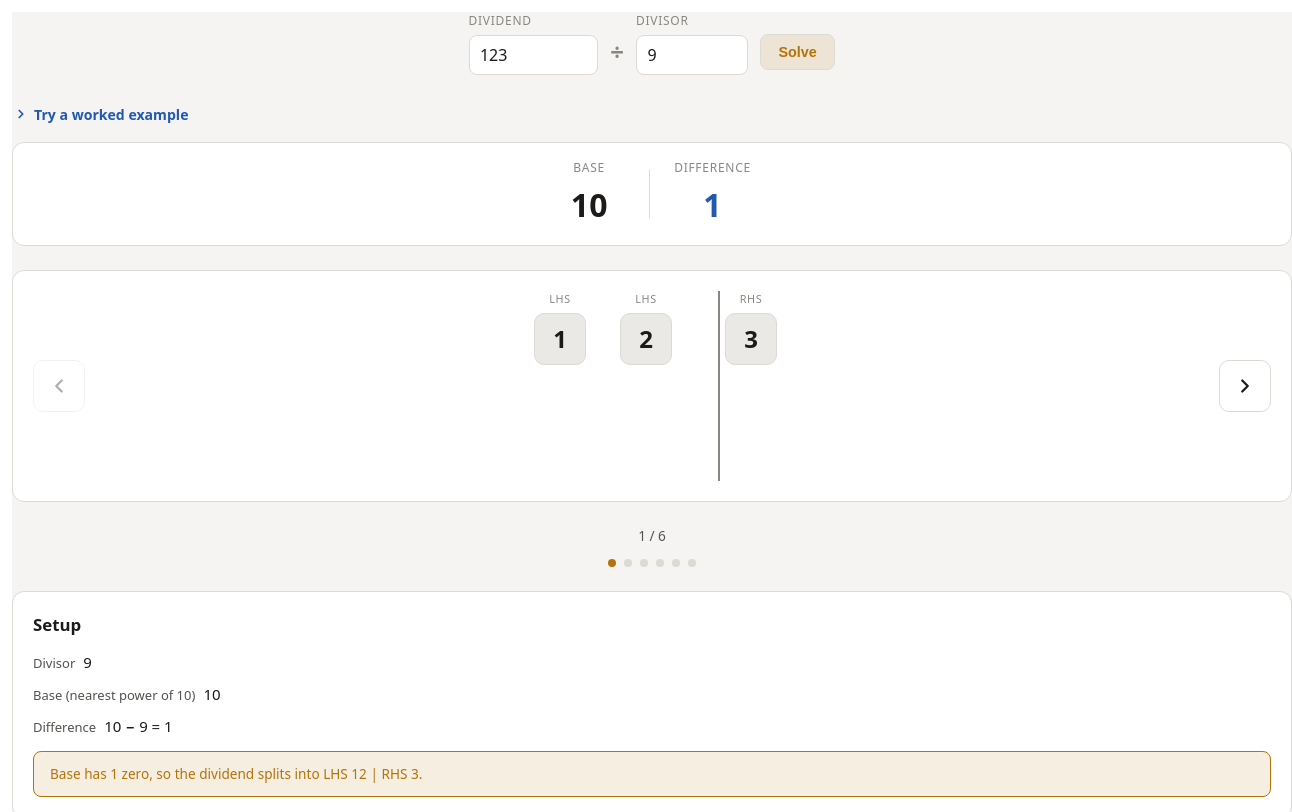
Test: BaseMethodPage › steps through to the verified remainder
Click the button named "Next step" at (1245, 386), box 1219,360 -> 1271,412
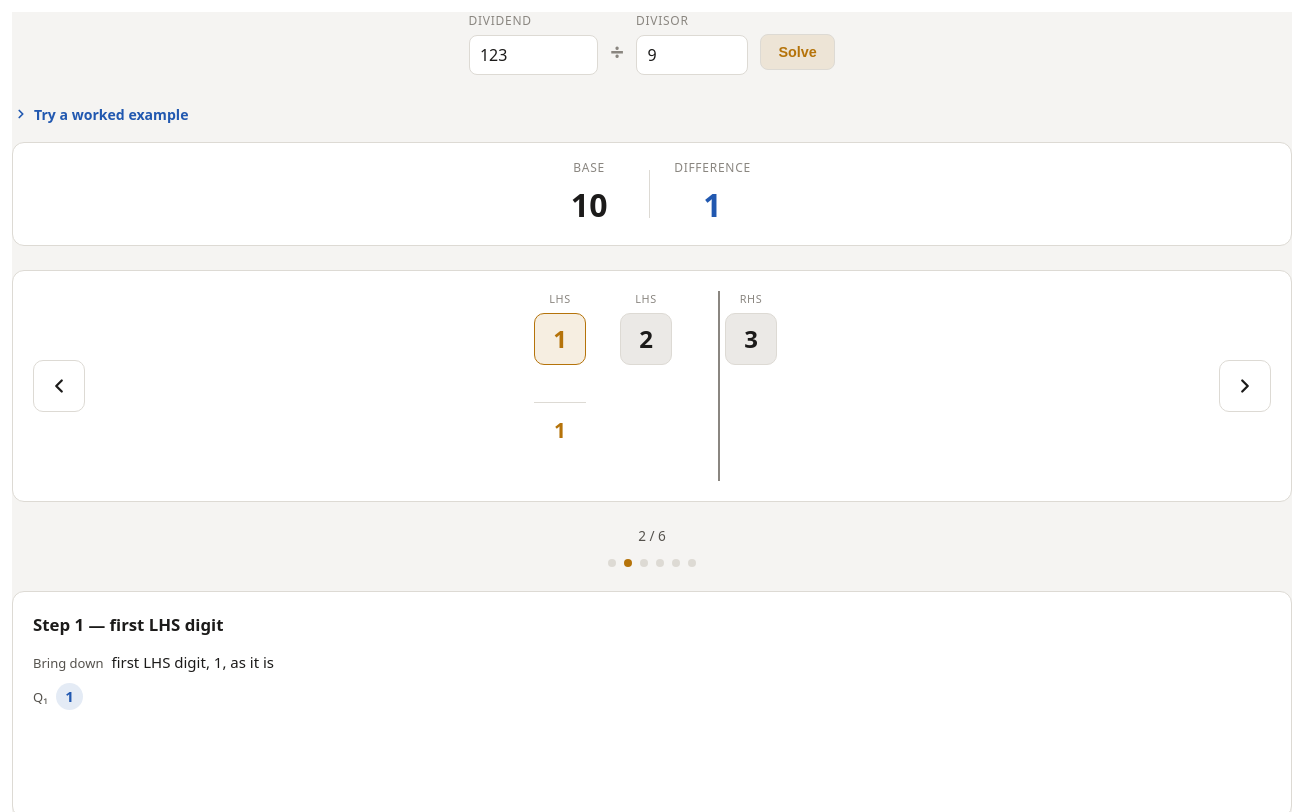
Click the button named "Next step" at (1245, 386), box 1219,360 -> 1271,412
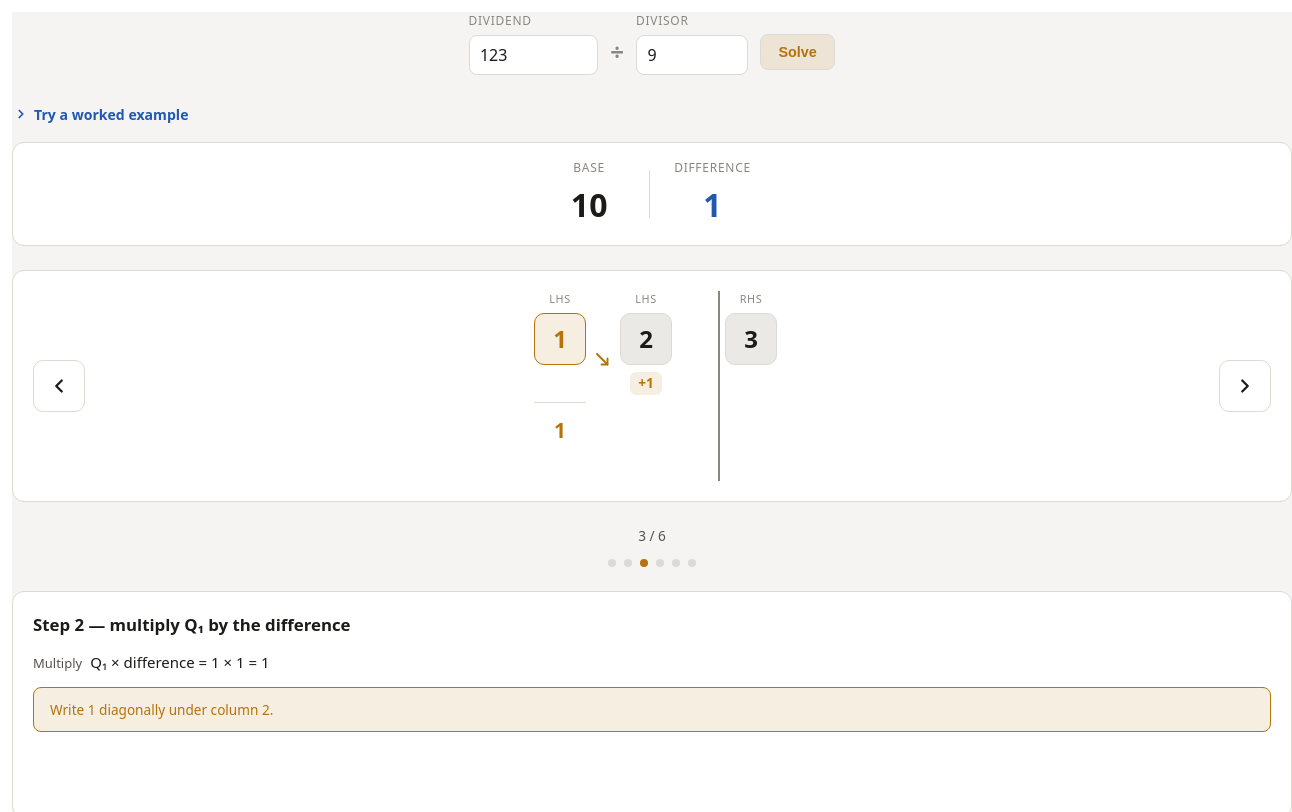
Click the button named "Next step" at (1245, 386), box 1219,360 -> 1271,412
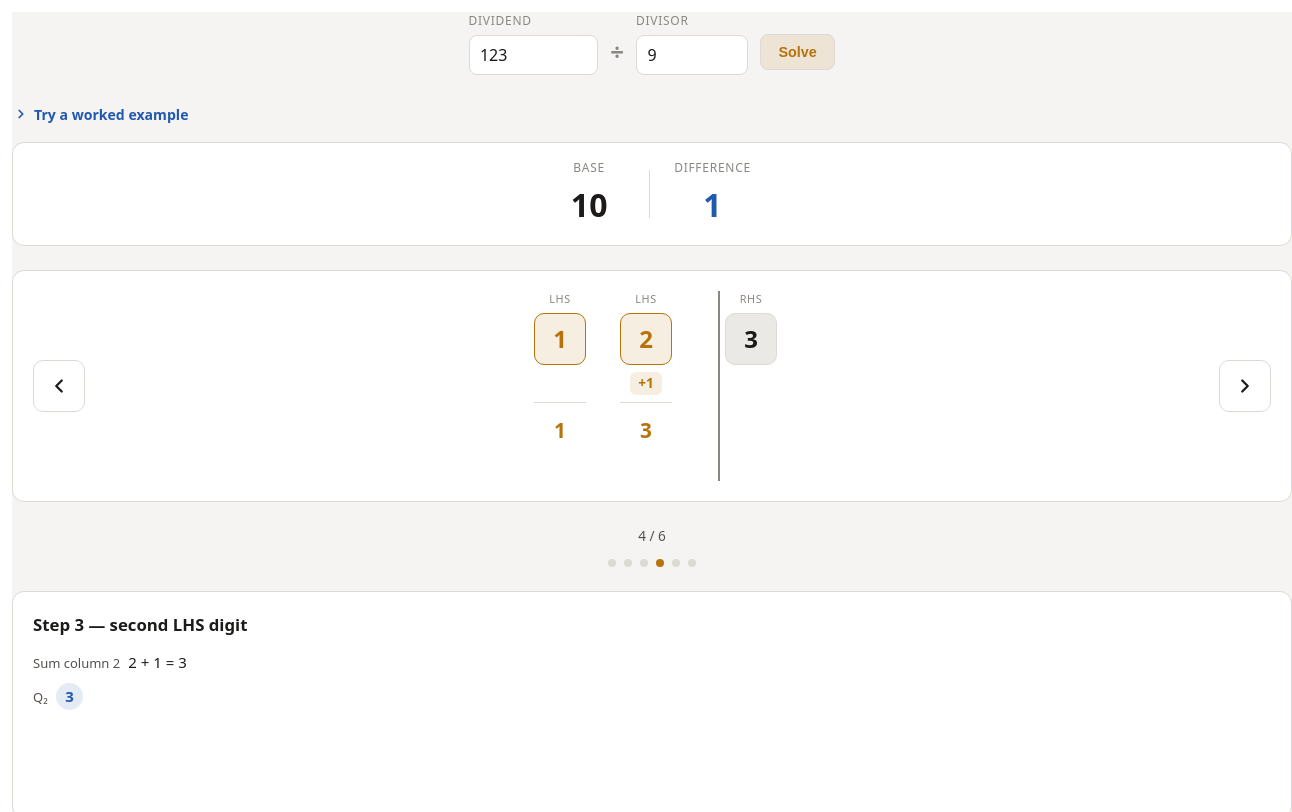
Click the button named "Next step" at (1245, 386), box 1219,360 -> 1271,412
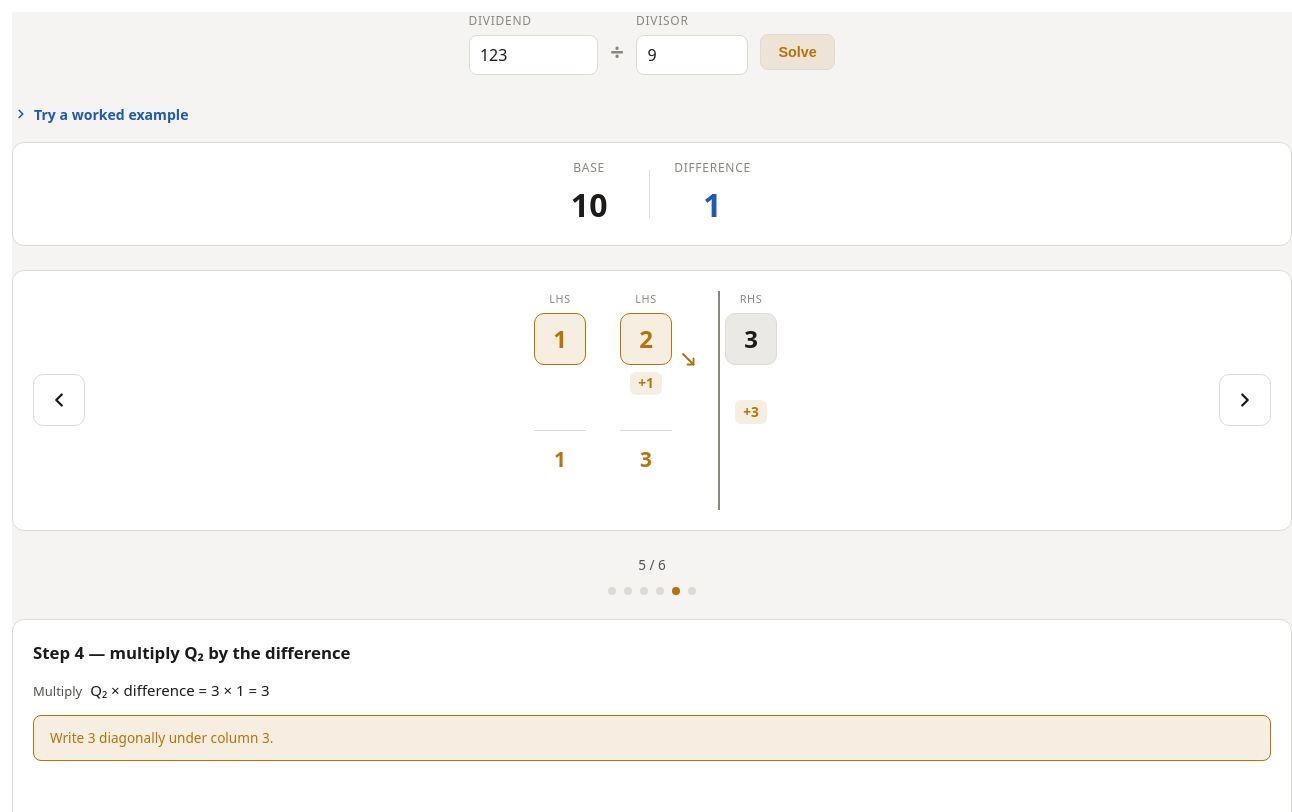
Click the button named "Next step" at (1245, 400), box 1219,374 -> 1271,426
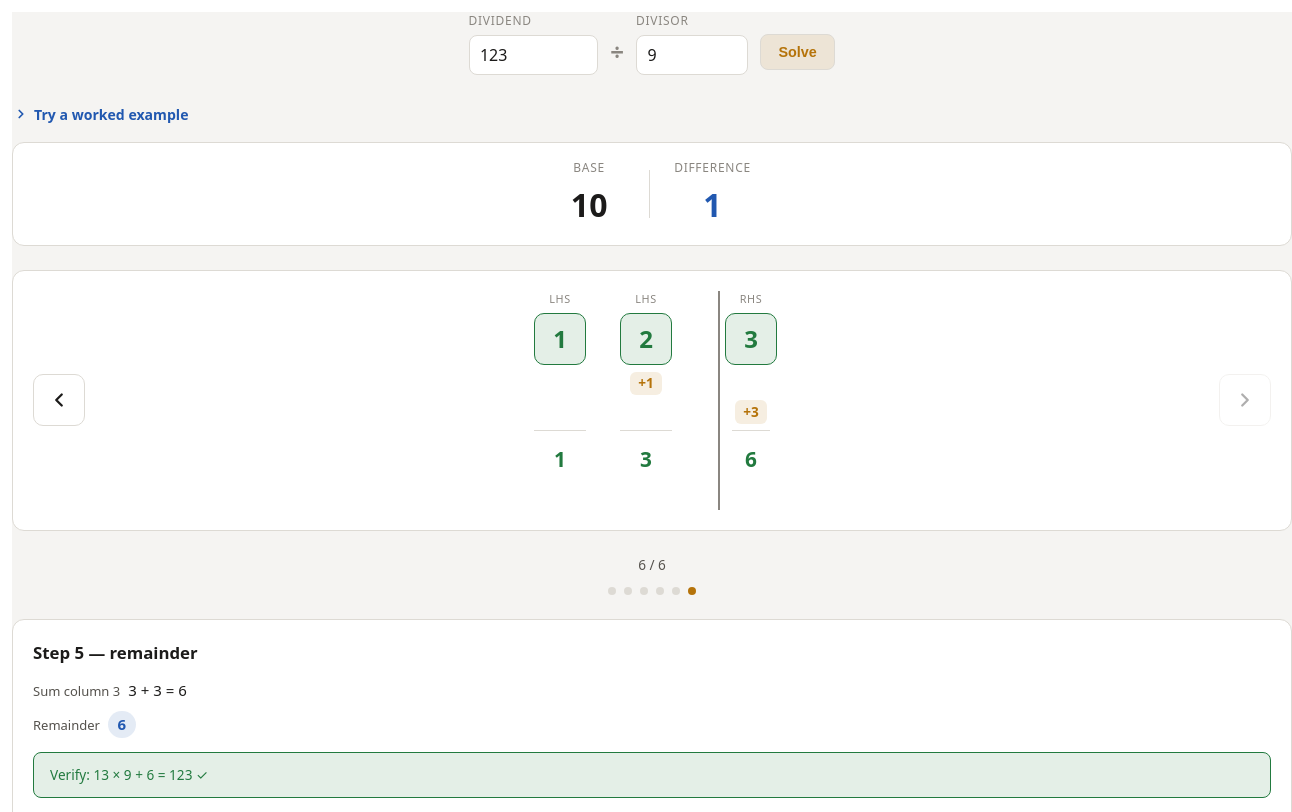
Expected: the text "6 / 6" is shown, 638,555 -> 666,574
Expected: the button named "Next step" is disabled, 1219,374 -> 1271,426
